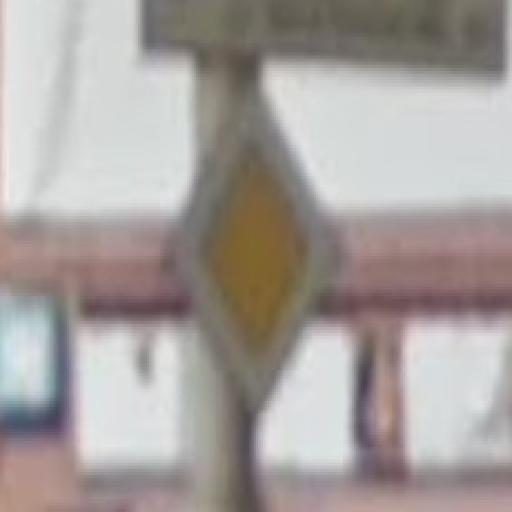traffic_sign: (155, 81, 342, 414)
